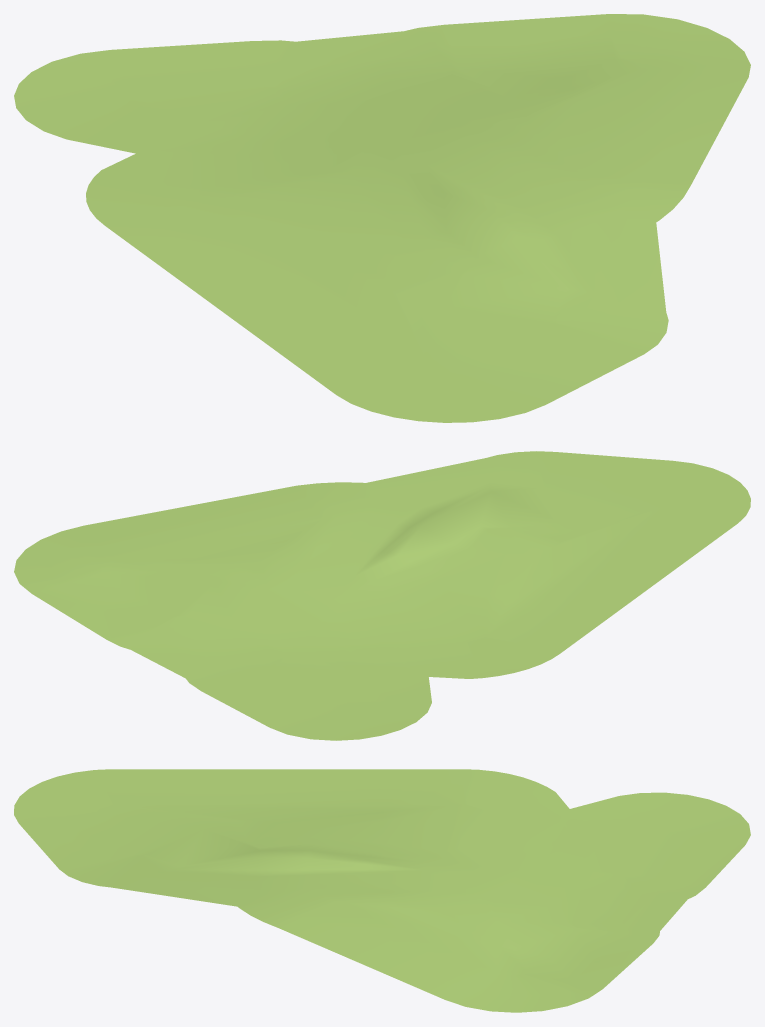
Rendered from SM_Terrain.fbx.
The picture shows the model from 3 angles, top to bottom: view 1: azimuth 30°, elevation 25°; view 2: azimuth 150°, elevation 25°; view 3: azimuth 270°, elevation 25°; orthographic projection. The views are drawn at different scales.
Parts seen in each view (by area): view 1: SM_Terrain.001; view 2: SM_Terrain.001; view 3: SM_Terrain.001.
Part boxes in pixels (box(x1,y1,x2,y2)): SM_Terrain.001: box(14, 14, 750, 422); SM_Terrain.001: box(14, 451, 750, 740); SM_Terrain.001: box(14, 769, 750, 1012).
Bounding box in the file's own units: 314 × 12.67 × 401.
